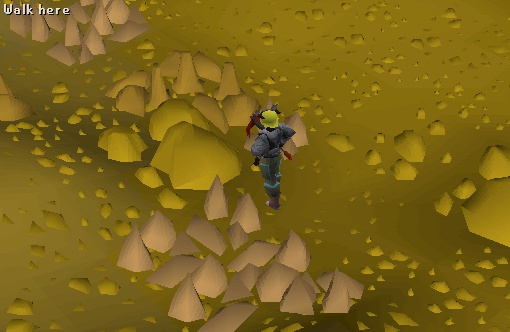granite: (108, 203, 210, 297), (259, 232, 361, 326)
sandstone: (95, 54, 180, 128), (182, 55, 267, 129)
